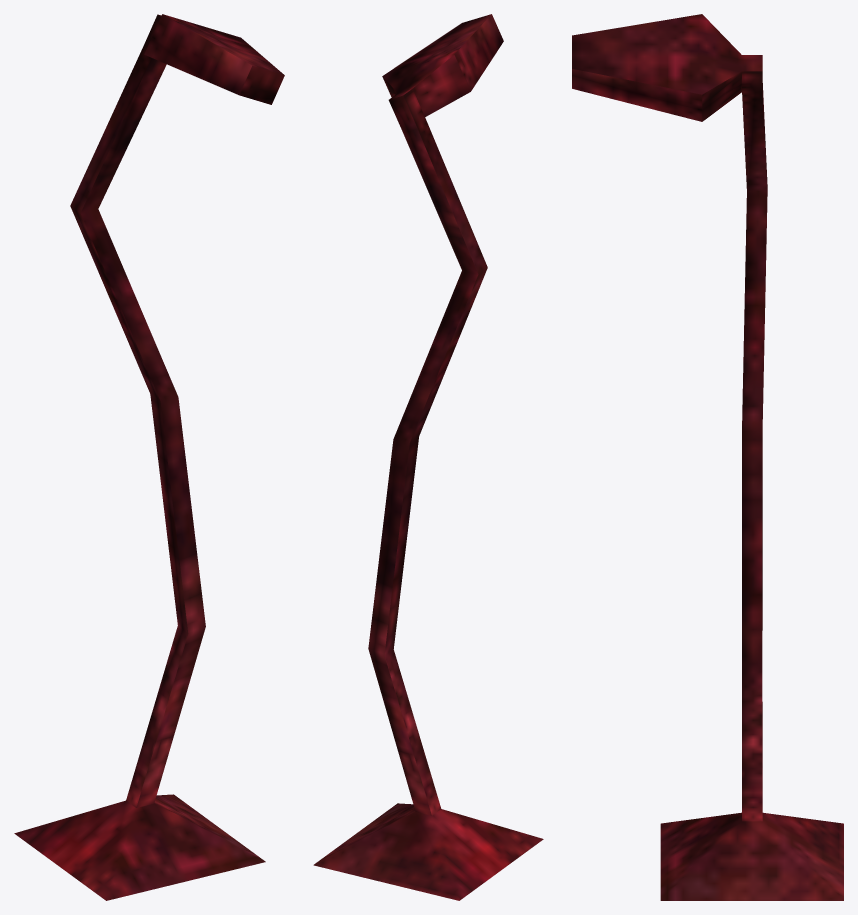
File: StreetLightFlesh.glb
3 renders of one model, left to right at view 1: azimuth 30°, elevation 25°; view 2: azimuth 150°, elevation 25°; view 3: azimuth 270°, elevation 25°, orthographic. The views are drawn at different scales.
Parts seen in each view (by area): view 1: Cube; view 2: Cube; view 3: Cube.
Part boxes in pixels (left/top/right/bottom): Cube: left=14, top=14, right=284, bottom=900; Cube: left=313, top=14, right=543, bottom=900; Cube: left=572, top=14, right=843, bottom=900.
Size of the model in its own units: 0.7006 by 3.57 by 1.04.
Materials: 1 (1 with a texture image).
